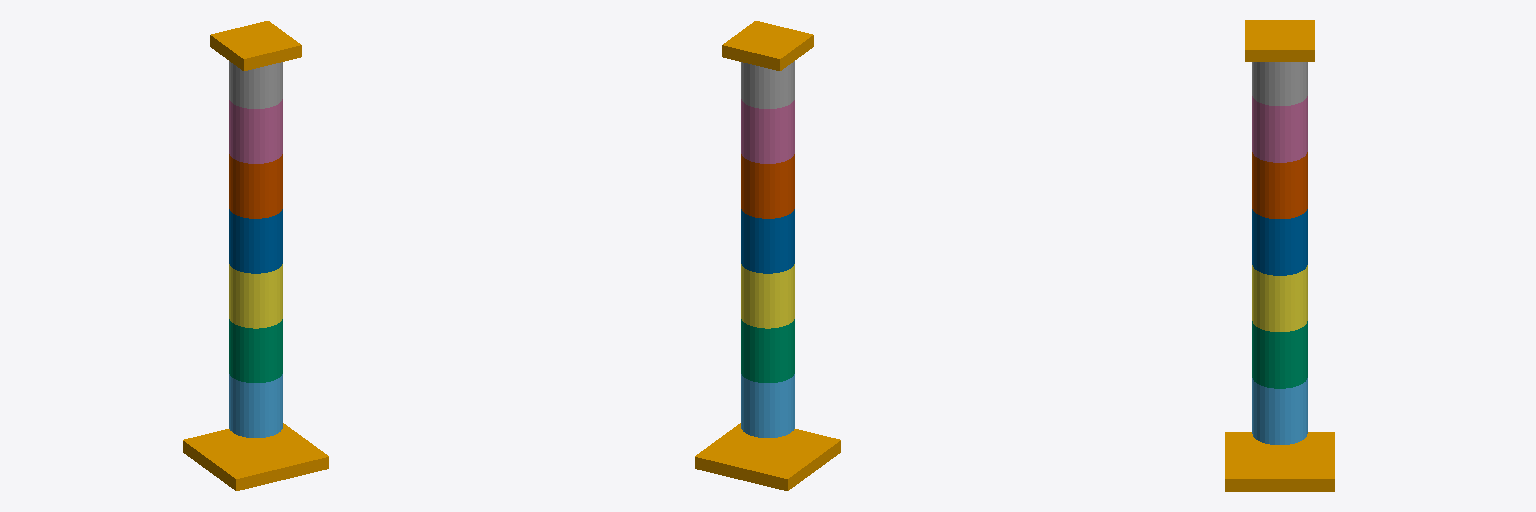
URDF robot description (arm_7dof):
<?xml version="1.0" ?>
<robot name="arm_7dof">
  <link name="base_link">
    <inertial>
      <origin xyz="0 0 0" rpy="0 0 0"/>
      <mass value="0.5"/>
      <inertia ixx="0.01" ixy="0" ixz="0" iyy="0.01" iyz="0" izz="0.01"/>
    </inertial>
    <visual>
      <origin xyz="0 0 0" rpy="0 0 0"/>
      <geometry>
        <box size="0.08 0.08 0.01"/>
      </geometry>
    </visual>
    <collision>
      <origin xyz="0 0 0" rpy="0 0 0"/>
      <geometry>
        <box size="0.08 0.08 0.01"/>
      </geometry>
    </collision>
  </link>
  <link name="link_0">
    <inertial>
      <origin xyz="0 0 0" rpy="0 0 0"/>
      <mass value="0.135"/>
      <inertia ixx="4.2e-5" ixy="0" ixz="0" iyy="4.2e-5" iyz="0" izz="2.7e-5"/>
    </inertial>
    <visual>
      <origin xyz="0 0 0" rpy="0 0 0"/>
      <geometry>
        <cylinder radius="0.02" length="0.045"/>
      </geometry>
    </visual>
    <collision>
      <origin xyz="0 0 0" rpy="0 0 0"/>
      <geometry>
        <cylinder radius="0.02" length="0.045"/>
      </geometry>
    </collision>
  </link>
  <joint name="joint_J1" type="revolute">
    <origin xyz="0 0 0.045" rpy="0 0 0"/>
    <parent link="base_link"/>
    <child link="link_0"/>
    <axis xyz="0 0 1"/>
    <limit>
      <effort>5.0</effort>
      <lower>-3.14159</lower>
      <upper>3.14159</upper>
      <velocity>2.0</velocity>
    </limit>
    <transmission>
      <type>transmission_interface/SimpleTransmission</type>
      <joint name="joint_J1">
        <hardwareInterface>hardware_interface/PositionJointInterface</hardwareInterface>
      </joint>
      <actuator>
        <hardwareInterface>hardware_interface/PositionJointInterface</hardwareInterface>
        <mechanicalReduction>10.0</mechanicalReduction>
      </actuator>
    </transmission>
  </joint>
  <link name="link_1">
    <inertial>
      <origin xyz="0 0 0" rpy="0 0 0"/>
      <mass value="0.135"/>
      <inertia ixx="4.2e-5" ixy="0" ixz="0" iyy="4.2e-5" iyz="0" izz="2.7e-5"/>
    </inertial>
    <visual>
      <origin xyz="0 0 0" rpy="0 0 0"/>
      <geometry>
        <cylinder radius="0.02" length="0.045"/>
      </geometry>
    </visual>
    <collision>
      <origin xyz="0 0 0" rpy="0 0 0"/>
      <geometry>
        <cylinder radius="0.02" length="0.045"/>
      </geometry>
    </collision>
  </link>
  <joint name="joint_J2" type="revolute">
    <origin xyz="0 0 0.045" rpy="0 0 0"/>
    <parent link="link_0"/>
    <child link="link_1"/>
    <axis xyz="0 1 0"/>
    <limit>
      <effort>5.0</effort>
      <lower>-3.14159</lower>
      <upper>3.14159</upper>
      <velocity>2.0</velocity>
    </limit>
    <transmission>
      <type>transmission_interface/SimpleTransmission</type>
      <joint name="joint_J2">
        <hardwareInterface>hardware_interface/PositionJointInterface</hardwareInterface>
      </joint>
      <actuator>
        <hardwareInterface>hardware_interface/PositionJointInterface</hardwareInterface>
        <mechanicalReduction>10.0</mechanicalReduction>
      </actuator>
    </transmission>
  </joint>
  <link name="link_2">
    <inertial>
      <origin xyz="0 0 0" rpy="0 0 0"/>
      <mass value="0.135"/>
      <inertia ixx="4.2e-5" ixy="0" ixz="0" iyy="4.2e-5" iyz="0" izz="2.7e-5"/>
    </inertial>
    <visual>
      <origin xyz="0 0 0" rpy="0 0 0"/>
      <geometry>
        <cylinder radius="0.02" length="0.045"/>
      </geometry>
    </visual>
    <collision>
      <origin xyz="0 0 0" rpy="0 0 0"/>
      <geometry>
        <cylinder radius="0.02" length="0.045"/>
      </geometry>
    </collision>
  </link>
  <joint name="joint_J3" type="revolute">
    <origin xyz="0 0 0.045" rpy="0 0 0"/>
    <parent link="link_1"/>
    <child link="link_2"/>
    <axis xyz="0 0 1"/>
    <limit>
      <effort>5.0</effort>
      <lower>-3.14159</lower>
      <upper>3.14159</upper>
      <velocity>2.0</velocity>
    </limit>
    <transmission>
      <type>transmission_interface/SimpleTransmission</type>
      <joint name="joint_J3">
        <hardwareInterface>hardware_interface/PositionJointInterface</hardwareInterface>
      </joint>
      <actuator>
        <hardwareInterface>hardware_interface/PositionJointInterface</hardwareInterface>
        <mechanicalReduction>10.0</mechanicalReduction>
      </actuator>
    </transmission>
  </joint>
  <link name="link_3">
    <inertial>
      <origin xyz="0 0 0" rpy="0 0 0"/>
      <mass value="0.135"/>
      <inertia ixx="4.2e-5" ixy="0" ixz="0" iyy="4.2e-5" iyz="0" izz="2.7e-5"/>
    </inertial>
    <visual>
      <origin xyz="0 0 0" rpy="0 0 0"/>
      <geometry>
        <cylinder radius="0.02" length="0.045"/>
      </geometry>
    </visual>
    <collision>
      <origin xyz="0 0 0" rpy="0 0 0"/>
      <geometry>
        <cylinder radius="0.02" length="0.045"/>
      </geometry>
    </collision>
  </link>
  <joint name="joint_J4" type="revolute">
    <origin xyz="0 0 0.045" rpy="0 0 0"/>
    <parent link="link_2"/>
    <child link="link_3"/>
    <axis xyz="0 1 0"/>
    <limit>
      <effort>5.0</effort>
      <lower>-3.14159</lower>
      <upper>3.14159</upper>
      <velocity>2.0</velocity>
    </limit>
    <transmission>
      <type>transmission_interface/SimpleTransmission</type>
      <joint name="joint_J4">
        <hardwareInterface>hardware_interface/PositionJointInterface</hardwareInterface>
      </joint>
      <actuator>
        <hardwareInterface>hardware_interface/PositionJointInterface</hardwareInterface>
        <mechanicalReduction>10.0</mechanicalReduction>
      </actuator>
    </transmission>
  </joint>
  <link name="link_4">
    <inertial>
      <origin xyz="0 0 0" rpy="0 0 0"/>
      <mass value="0.135"/>
      <inertia ixx="4.2e-5" ixy="0" ixz="0" iyy="4.2e-5" iyz="0" izz="2.7e-5"/>
    </inertial>
    <visual>
      <origin xyz="0 0 0" rpy="0 0 0"/>
      <geometry>
        <cylinder radius="0.02" length="0.045"/>
      </geometry>
    </visual>
    <collision>
      <origin xyz="0 0 0" rpy="0 0 0"/>
      <geometry>
        <cylinder radius="0.02" length="0.045"/>
      </geometry>
    </collision>
  </link>
  <joint name="joint_J5" type="revolute">
    <origin xyz="0 0 0.045" rpy="0 0 0"/>
    <parent link="link_3"/>
    <child link="link_4"/>
    <axis xyz="0 0 1"/>
    <limit>
      <effort>5.0</effort>
      <lower>-3.14159</lower>
      <upper>3.14159</upper>
      <velocity>2.0</velocity>
    </limit>
    <transmission>
      <type>transmission_interface/SimpleTransmission</type>
      <joint name="joint_J5">
        <hardwareInterface>hardware_interface/PositionJointInterface</hardwareInterface>
      </joint>
      <actuator>
        <hardwareInterface>hardware_interface/PositionJointInterface</hardwareInterface>
        <mechanicalReduction>10.0</mechanicalReduction>
      </actuator>
    </transmission>
  </joint>
  <link name="link_5">
    <inertial>
      <origin xyz="0 0 0" rpy="0 0 0"/>
      <mass value="0.135"/>
      <inertia ixx="4.2e-5" ixy="0" ixz="0" iyy="4.2e-5" iyz="0" izz="2.7e-5"/>
    </inertial>
    <visual>
      <origin xyz="0 0 0" rpy="0 0 0"/>
      <geometry>
        <cylinder radius="0.02" length="0.045"/>
      </geometry>
    </visual>
    <collision>
      <origin xyz="0 0 0" rpy="0 0 0"/>
      <geometry>
        <cylinder radius="0.02" length="0.045"/>
      </geometry>
    </collision>
  </link>
  <joint name="joint_J6" type="revolute">
    <origin xyz="0 0 0.045" rpy="0 0 0"/>
    <parent link="link_4"/>
    <child link="link_5"/>
    <axis xyz="0 1 0"/>
    <limit>
      <effort>5.0</effort>
      <lower>-3.14159</lower>
      <upper>3.14159</upper>
      <velocity>2.0</velocity>
    </limit>
    <transmission>
      <type>transmission_interface/SimpleTransmission</type>
      <joint name="joint_J6">
        <hardwareInterface>hardware_interface/PositionJointInterface</hardwareInterface>
      </joint>
      <actuator>
        <hardwareInterface>hardware_interface/PositionJointInterface</hardwareInterface>
        <mechanicalReduction>10.0</mechanicalReduction>
      </actuator>
    </transmission>
  </joint>
  <link name="link_6">
    <inertial>
      <origin xyz="0 0 0" rpy="0 0 0"/>
      <mass value="0.135"/>
      <inertia ixx="4.2e-5" ixy="0" ixz="0" iyy="4.2e-5" iyz="0" izz="2.7e-5"/>
    </inertial>
    <visual>
      <origin xyz="0 0 0" rpy="0 0 0"/>
      <geometry>
        <cylinder radius="0.02" length="0.045"/>
      </geometry>
    </visual>
    <collision>
      <origin xyz="0 0 0" rpy="0 0 0"/>
      <geometry>
        <cylinder radius="0.02" length="0.045"/>
      </geometry>
    </collision>
  </link>
  <joint name="joint_J7" type="revolute">
    <origin xyz="0 0 0.045" rpy="0 0 0"/>
    <parent link="link_5"/>
    <child link="link_6"/>
    <axis xyz="0 0 1"/>
    <limit>
      <effort>5.0</effort>
      <lower>-3.14159</lower>
      <upper>3.14159</upper>
      <velocity>2.0</velocity>
    </limit>
    <transmission>
      <type>transmission_interface/SimpleTransmission</type>
      <joint name="joint_J7">
        <hardwareInterface>hardware_interface/PositionJointInterface</hardwareInterface>
      </joint>
      <actuator>
        <hardwareInterface>hardware_interface/PositionJointInterface</hardwareInterface>
        <mechanicalReduction>10.0</mechanicalReduction>
      </actuator>
    </transmission>
  </joint>
  <link name="end_effector">
    <inertial>
      <origin xyz="0 0 0" rpy="0 0 0"/>
      <mass value="0.1"/>
      <inertia ixx="0.001" ixy="0" ixz="0" iyy="0.001" iyz="0" izz="0.001"/>
    </inertial>
    <visual>
      <origin xyz="0 0 0" rpy="0 0 0"/>
      <geometry>
        <box size="0.05 0.05 0.01"/>
      </geometry>
    </visual>
    <collision>
      <origin xyz="0 0 0" rpy="0 0 0"/>
      <geometry>
        <box size="0.05 0.05 0.01"/>
      </geometry>
    </collision>
  </link>
  <joint name="joint_end" type="fixed">
    <origin xyz="0 0 0.02" rpy="0 0 0"/>
    <parent link="link_6"/>
    <child link="end_effector"/>
  </joint>
</robot>

--- Render facts (derived) ---
3 views of the same robot in one strip: view 1: azimuth 30°, elevation 25°; view 2: azimuth 150°, elevation 25°; view 3: azimuth 270°, elevation 25° (orthographic).
Robot: arm_7dof — 9 links, 8 joints (7 revolute, 1 fixed); root link base_link; default pose: all joints at 0.
Links seen in each view (by area): view 1: base_link, end_effector, link_3, link_4, link_0, link_5, link_1, link_2, link_6; view 2: base_link, end_effector, link_3, link_4, link_0, link_5, link_1, link_2, link_6; view 3: base_link, link_3, link_1, link_5, link_0, link_4, link_2, end_effector, link_6.
Link boxes in pixels (box(x1,y1,x2,y2)): base_link: box(183, 423, 328, 490); end_effector: box(210, 21, 301, 70); link_3: box(229, 209, 282, 273); link_4: box(229, 154, 282, 218); link_0: box(229, 374, 282, 437); link_5: box(229, 99, 282, 163); link_1: box(229, 319, 282, 382); link_2: box(229, 264, 282, 328); link_6: box(229, 61, 282, 108); base_link: box(695, 423, 840, 490); end_effector: box(722, 21, 813, 70); link_3: box(741, 209, 794, 273); link_4: box(741, 154, 794, 218); link_0: box(741, 374, 794, 437); link_5: box(741, 99, 794, 163); link_1: box(741, 319, 794, 382); link_2: box(741, 264, 794, 328); link_6: box(741, 61, 794, 108); base_link: box(1225, 432, 1334, 491); link_3: box(1252, 209, 1307, 275); link_1: box(1252, 321, 1307, 388); link_5: box(1252, 96, 1307, 162); link_0: box(1252, 378, 1307, 444); link_4: box(1252, 152, 1307, 218); link_2: box(1252, 265, 1307, 331); end_effector: box(1245, 20, 1314, 61); link_6: box(1252, 62, 1307, 105).
Bounding box of the posed robot: 0.08 × 0.08 × 0.345 m (x, y, z).
Geometry: primitives only (box / cylinder / sphere), no mesh files.
